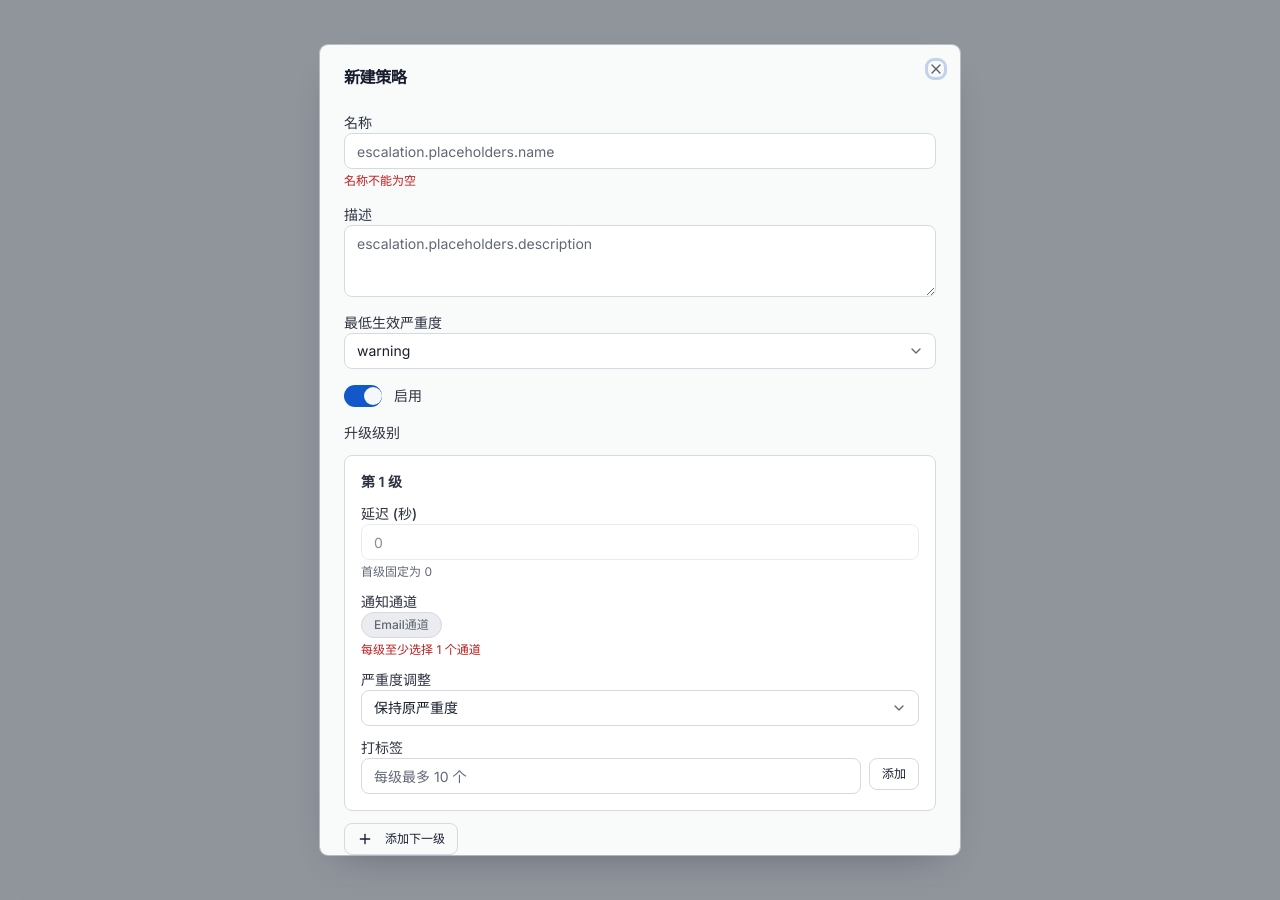
EscalationPolicyEditor › max levels: '+ Add level' button disabled at 5 levels
Expected: the button "Email通道" is shown, [361, 612, 442, 638]
Click the button "添加下一级" at (401, 839), box [344, 823, 458, 855]
(page scrolled)
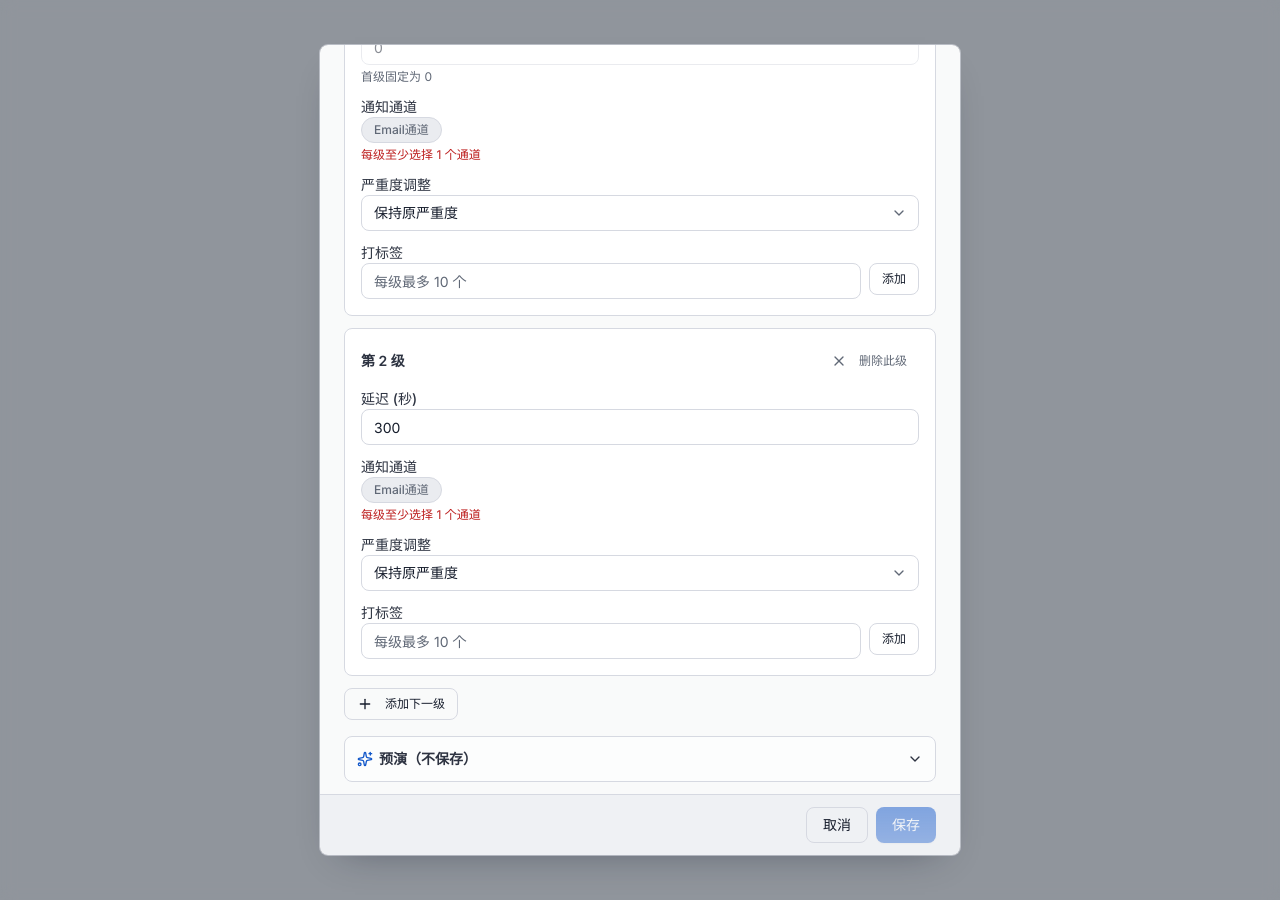
Click the button "添加下一级" at (401, 704), box [344, 688, 458, 720]
(page scrolled)
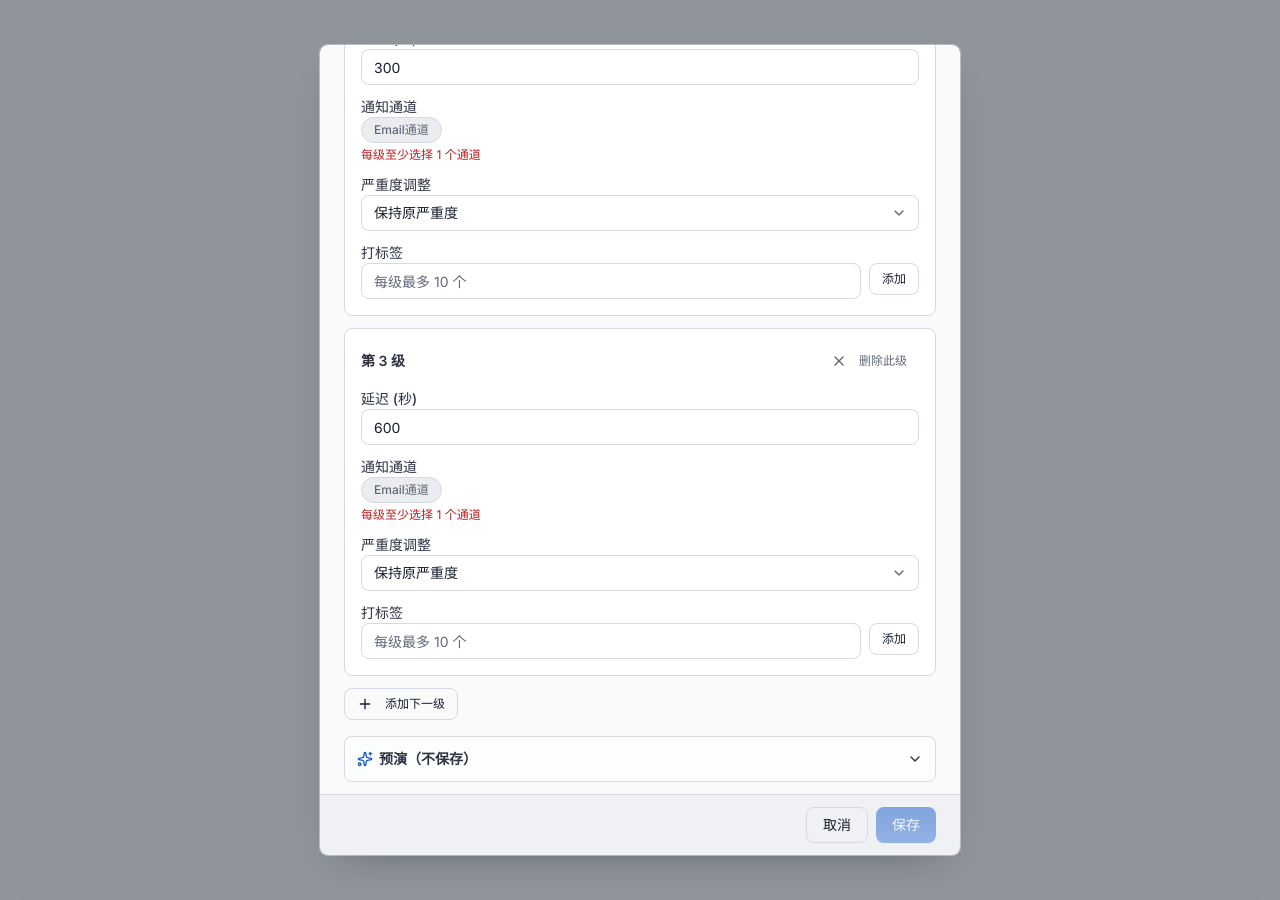
Click the button "添加下一级" at (401, 704), box [344, 688, 458, 720]
(page scrolled)
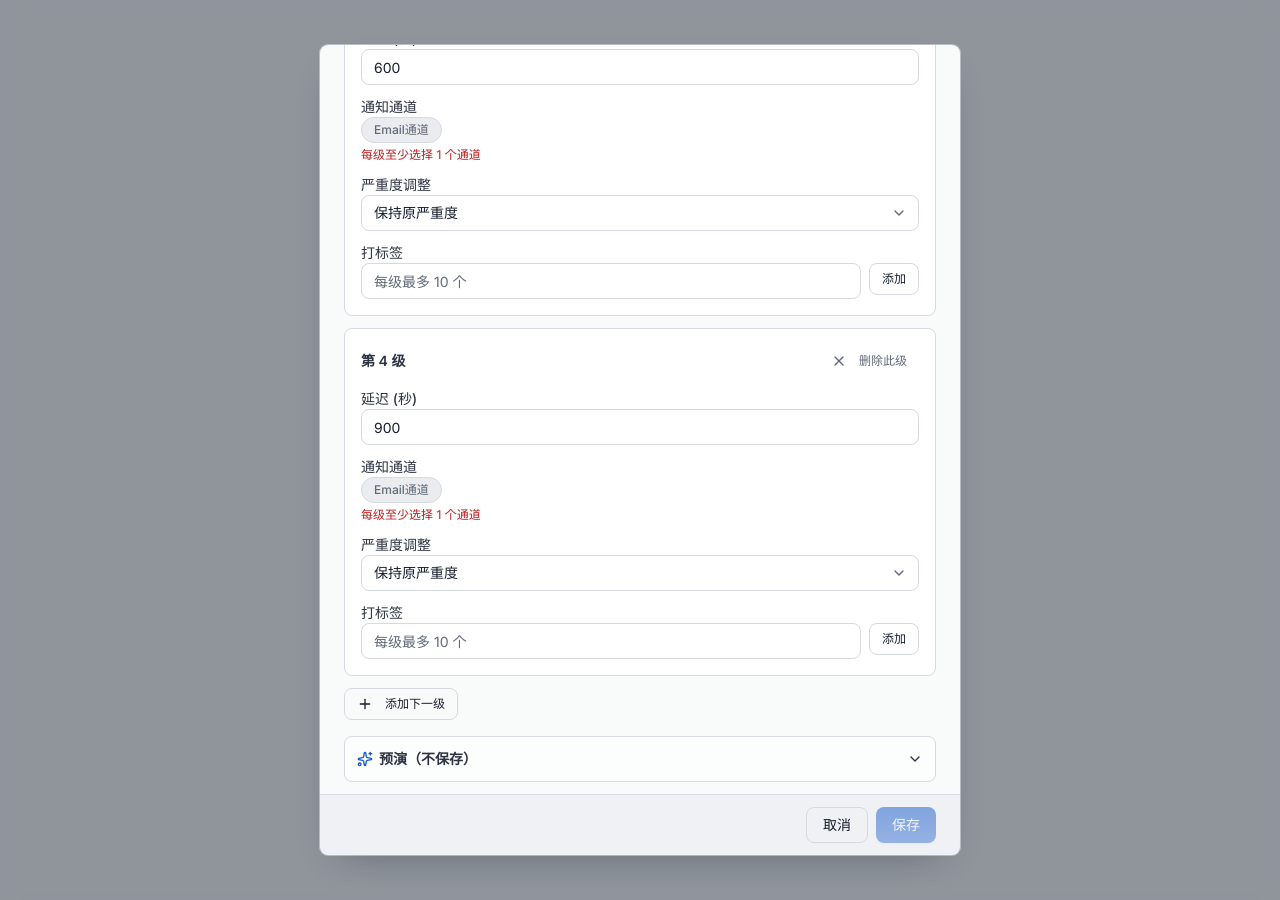
Click the button "添加下一级" at (401, 704), box [344, 688, 458, 720]
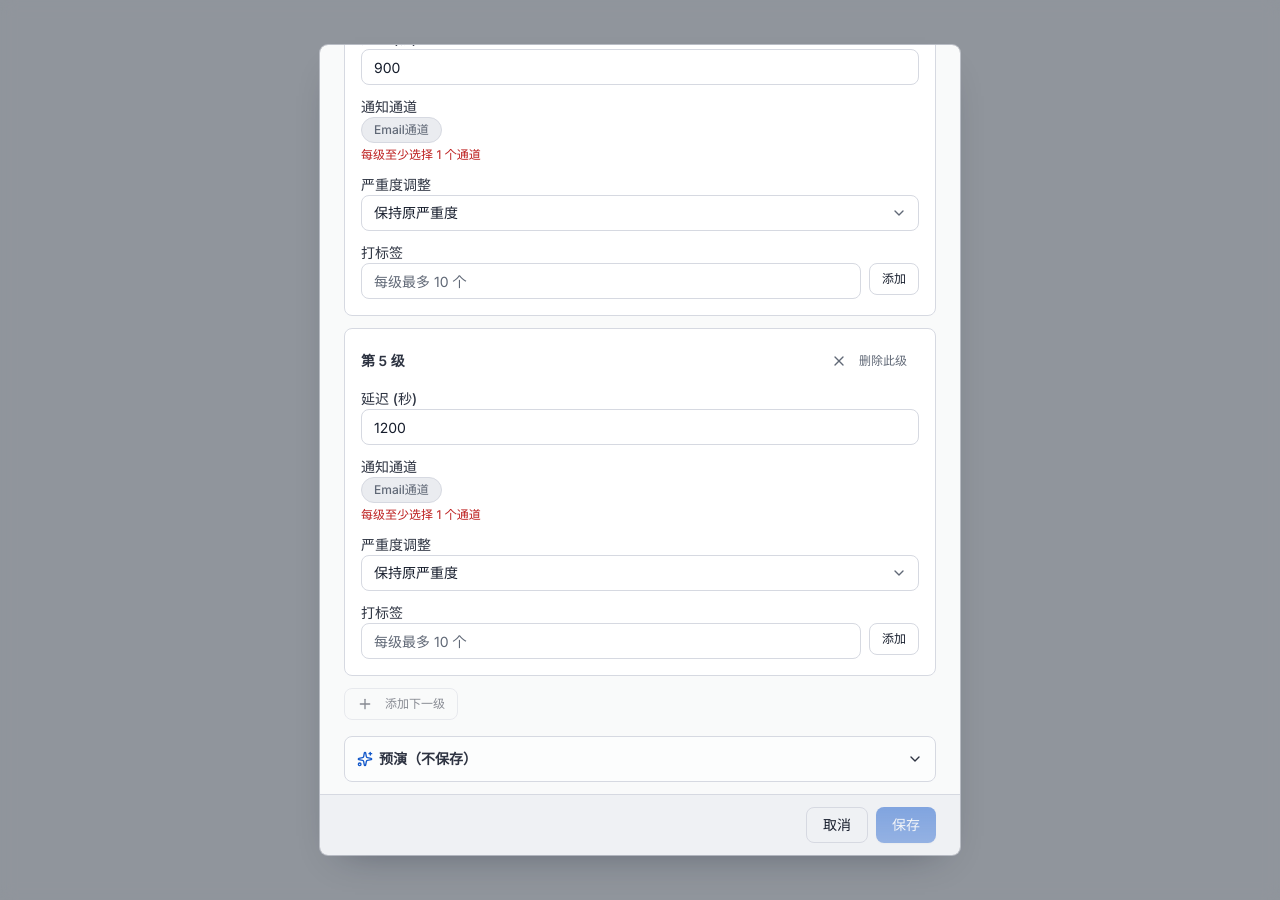
Result: the button "添加下一级" is disabled at [344, 688, 458, 720]
